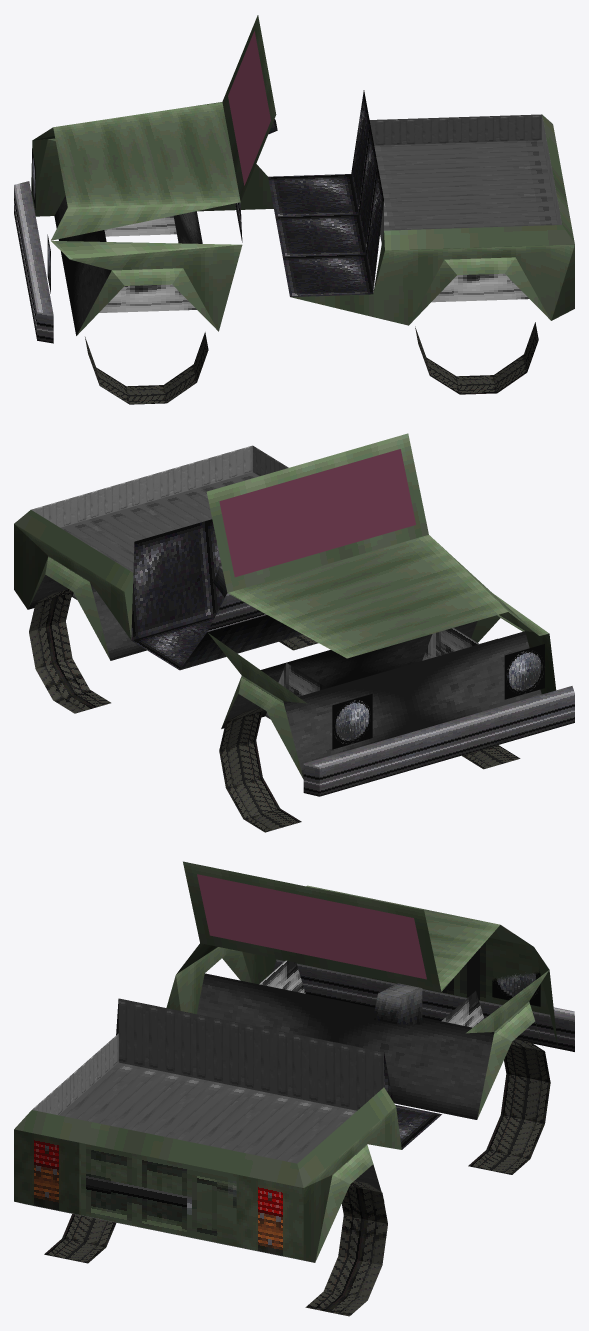
File: primary_025.glb
3 renders of one model, top to bottom at view 1: azimuth 30°, elevation 25°; view 2: azimuth 150°, elevation 25°; view 3: azimuth 270°, elevation 25°, orthographic. The views are drawn at different scales.
Parts seen in each view (by area): view 1: Object; view 2: Object; view 3: Object.
Part boxes in pixels (bbox=[...]): Object: bbox=[14, 15, 574, 404]; Object: bbox=[14, 433, 574, 832]; Object: bbox=[14, 861, 574, 1316].
Size of the model in its own units: 4.44 by 2.18 by 3.62.
Materials: 20 (20 with a texture image).
